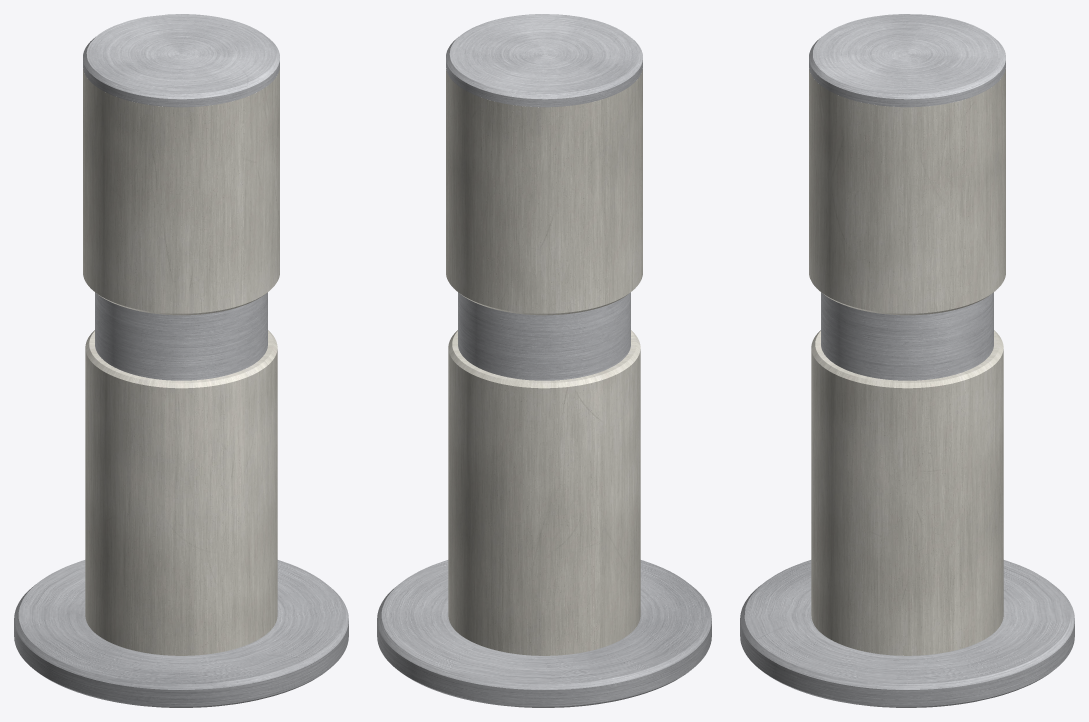
The model's file is rook-white.glb.
3 views of the same model, side by side, from view 1: azimuth 30°, elevation 25°; view 2: azimuth 150°, elevation 25°; view 3: azimuth 270°, elevation 25° (orthographic).
Parts seen in each view (by area): view 1: ferro-orbis_rook_white; view 2: ferro-orbis_rook_white; view 3: ferro-orbis_rook_white.
Part boxes in pixels (box(x1,y1,x2,y2)): ferro-orbis_rook_white: box(14, 14, 348, 707); ferro-orbis_rook_white: box(377, 14, 711, 707); ferro-orbis_rook_white: box(740, 14, 1074, 707).
Size of the model in its own units: 0.514 by 0.99 by 0.514.
3 materials, 3 textured.
